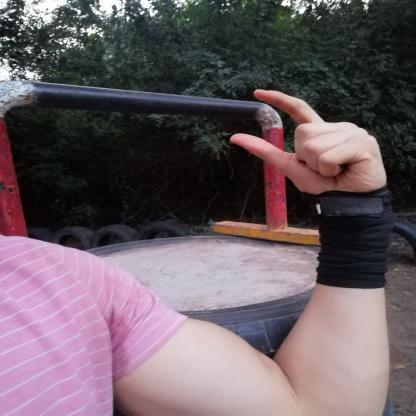DELL: (217, 77, 396, 209)
